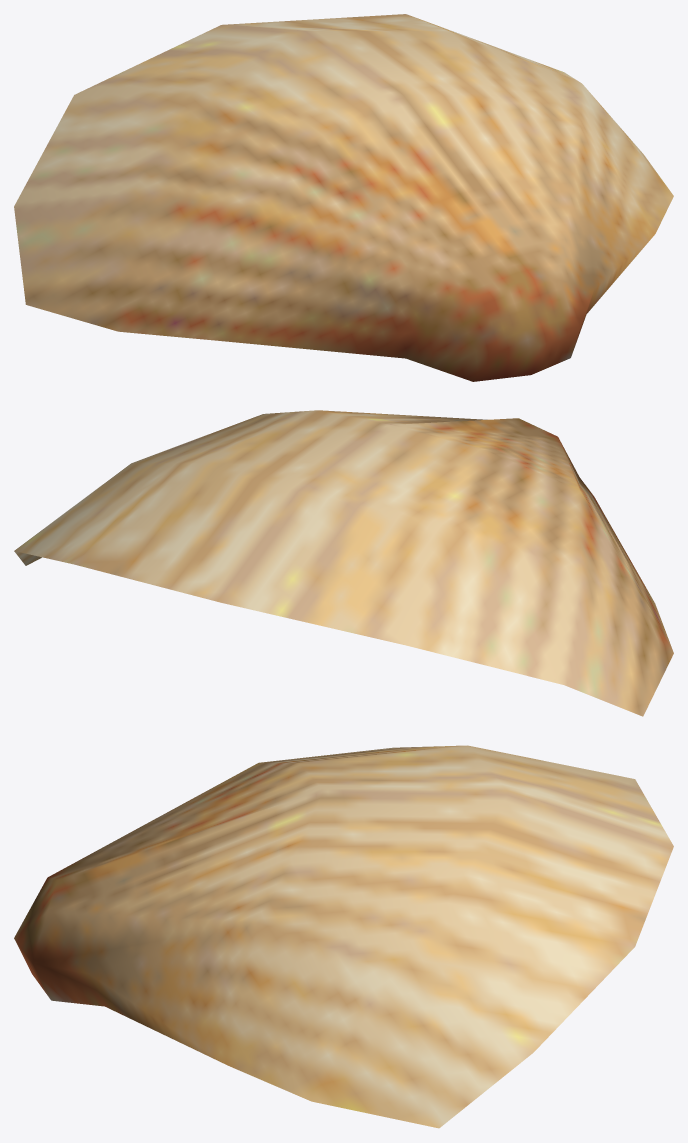
File: 5010_Item_beike_04.FBX
The picture shows the model from 3 angles, top to bottom: view 1: azimuth 30°, elevation 25°; view 2: azimuth 150°, elevation 25°; view 3: azimuth 270°, elevation 25°; orthographic projection. The views are drawn at different scales.
Visible parts, largest first — view 1: 5010_Item_beike_04; view 2: 5010_Item_beike_04; view 3: 5010_Item_beike_04.
Part boxes in pixels (x1,y1,x2,y2): 5010_Item_beike_04: (14, 14, 673, 381); 5010_Item_beike_04: (14, 410, 673, 716); 5010_Item_beike_04: (14, 745, 673, 1128).
Bounding box in the file's own units: 60.29 × 16.72 × 53.87.
